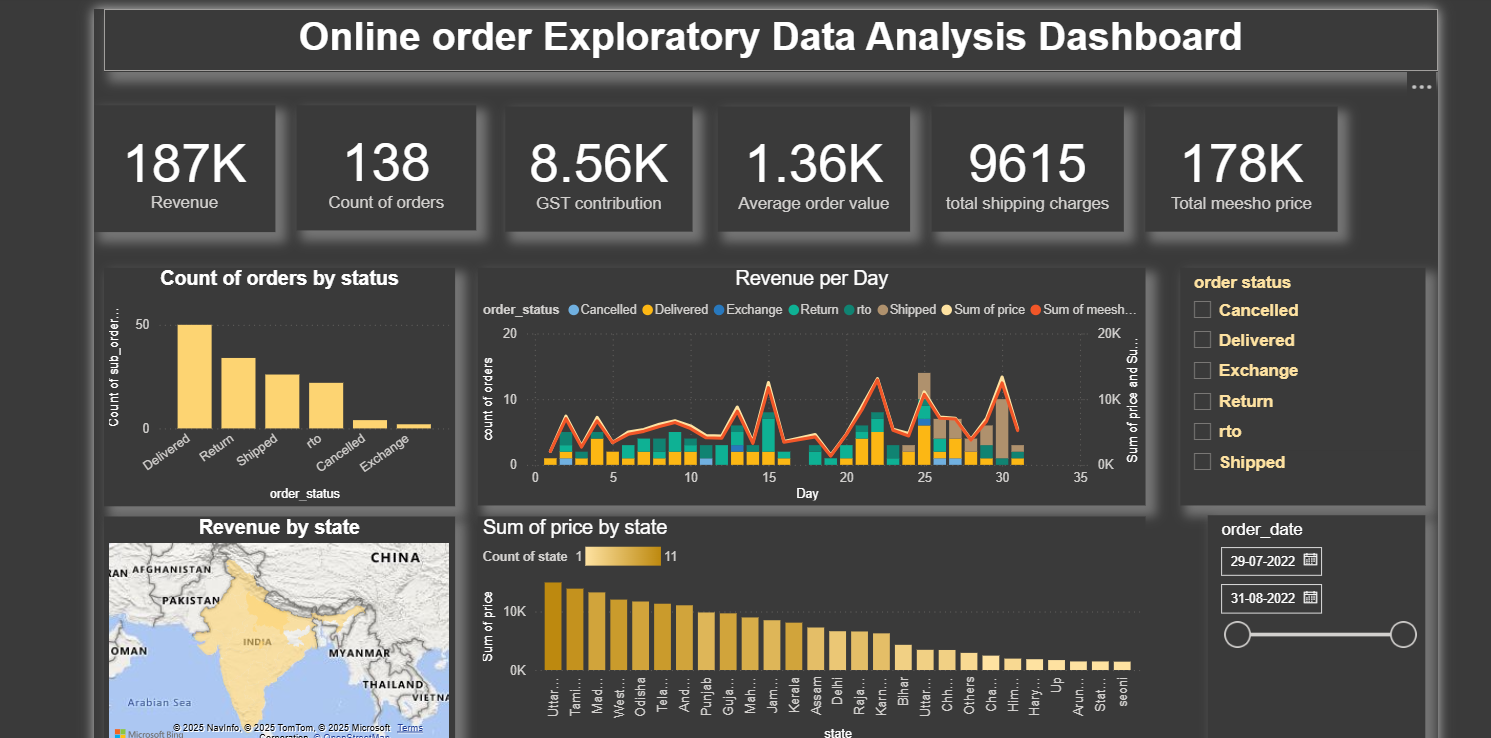

What the dashboard file says about the page in this screenshot:
{"tool":"powerbi","page":{"name":"Page 1","canvas":[1280,720],"ordinal":0},"visuals":[{"type":"textbox","box":[10,0,1270,59.7],"z":0},{"type":"card","fields":{"Values":["Sum(data.price)"]},"box":[0,91.7,172.5,120.6],"z":1000},{"type":"card","fields":{"Values":["Count(data.sub_order_num)"]},"box":[193,91.7,171.3,119.4],"z":2000},{"type":"card","fields":{"Values":["Sum(data.gst_amount)"]},"box":[392.1,92.9,178.6,119.4],"z":3000},{"type":"card","fields":{"Values":["Avg(data.price)"]},"box":[593.6,92.9,183.4,119.4],"z":4000},{"type":"card","fields":{"Values":["Sum(data.shipping_charges_total)"]},"box":[797.5,92.9,183.4,119.4],"z":5000},{"type":"card","fields":{"Values":["Sum(data.meesho_price)"]},"box":[1001.3,92.9,183.4,119.4],"z":6000},{"type":"columnChart","title":"Count of orders by status","fields":{"Category":["data.order_status"],"Y":["CountNonNull(data.sub_order_num)"]},"box":[9.7,246.1,334.2,226.8],"z":7000},{"type":"lineStackedColumnComboChart","title":"Revenue per Day","fields":{"Category":["data.order_date.Variation.Date Hierarchy.Day"],"Series":["data.order_status"],"Y2":["Sum(data.price)","Sum(data.meesho_price)"],"Y":["CountNonNull(data.sub_order_num)"]},"box":[365,246.7,636.3,226.5],"z":8000},{"type":"slicer","fields":{"Values":["data.order_status"]},"box":[1034.5,246.7,233.7,226.5],"z":9000},{"type":"filledMap","title":"Revenue by state","fields":{"Category":["data.state"]},"box":[10,483,334,227],"z":10000},{"type":"columnChart","fields":{"Category":["data.state"],"Y":["Sum(data.price)"]},"box":[365,483,636,227],"z":11000},{"type":"slicer","fields":{"Values":["data.order_date"]},"box":[1060.5,482.6,207.5,228],"z":12000}]}

Visuals, with their boxes on the page's 1280x720 design canvas (x1, y1, x2, y2). These are canvas units, not pixel positions in the 1491x738 screenshot, which may show the page scaled, cropped or inside an application window:
textbox: detection(10, 0, 1280, 60)
card - Sum(data.price): detection(0, 92, 172, 212)
card - Count(data.sub_order_num): detection(193, 92, 364, 211)
card - Sum(data.gst_amount): detection(392, 93, 571, 212)
card - Avg(data.price): detection(594, 93, 777, 212)
card - Sum(data.shipping_charges_total): detection(798, 93, 981, 212)
card - Sum(data.meesho_price): detection(1001, 93, 1185, 212)
"Count of orders by status" columnChart: detection(10, 246, 344, 473)
"Revenue per Day" lineStackedColumnComboChart: detection(365, 247, 1001, 473)
slicer - data.order_status: detection(1034, 247, 1268, 473)
"Revenue by state" filledMap: detection(10, 483, 344, 710)
columnChart - data.state x Sum(data.price): detection(365, 483, 1001, 710)
slicer - data.order_date: detection(1060, 483, 1268, 711)
